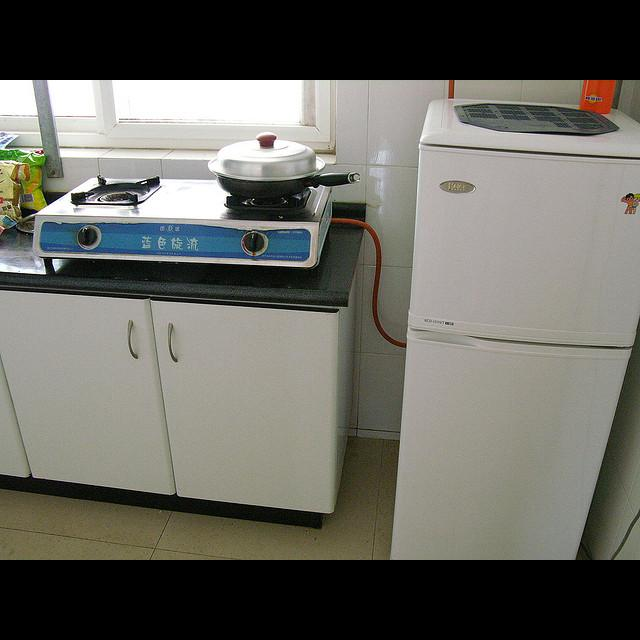Refrigerator: (390, 100, 640, 554)
